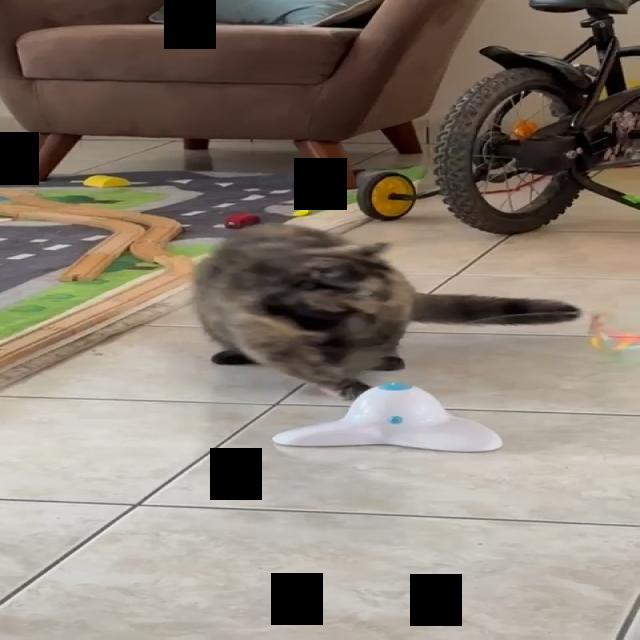authorized: (189, 221, 582, 401)
